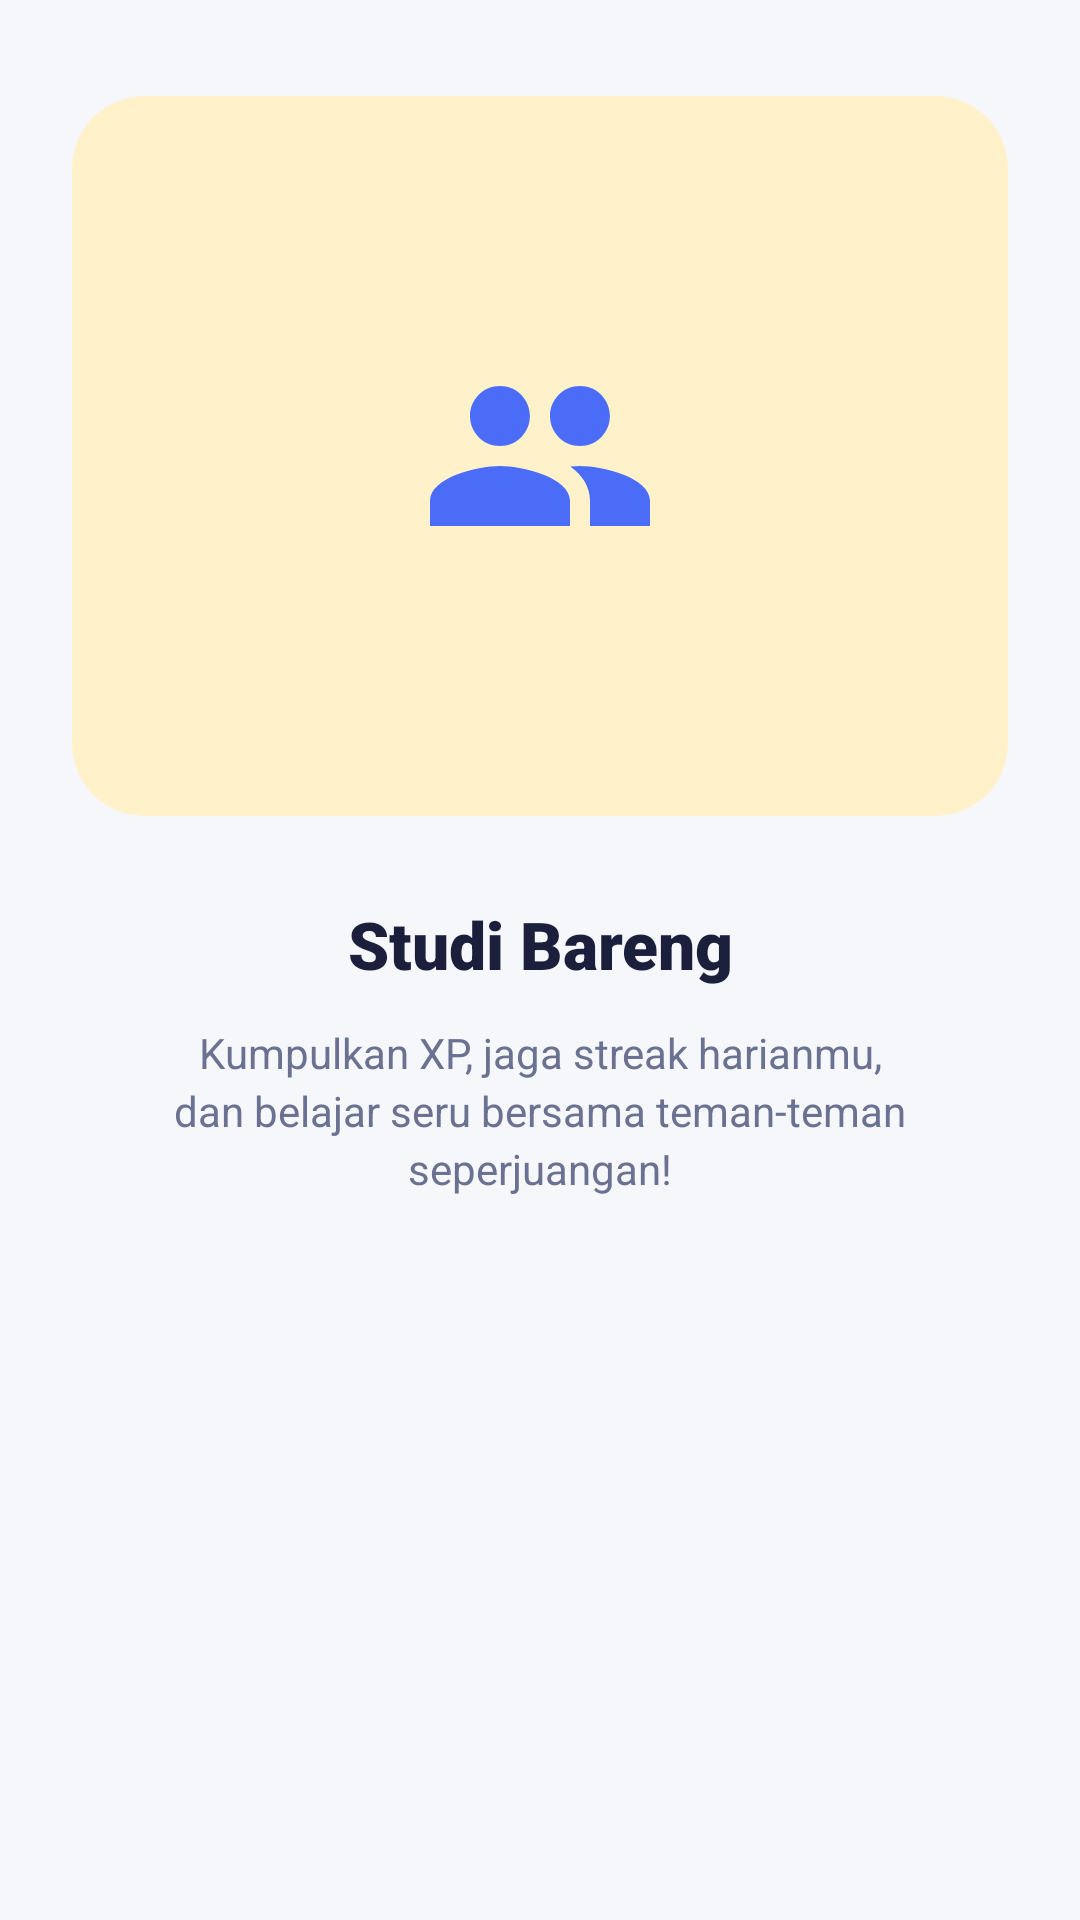

Screen size 1080px×1920px. Icon name, then its box in pixels as bbox=(x1, y1, x2, y2):
Ikon Studi Bareng: bbox=(430, 386, 650, 526)
